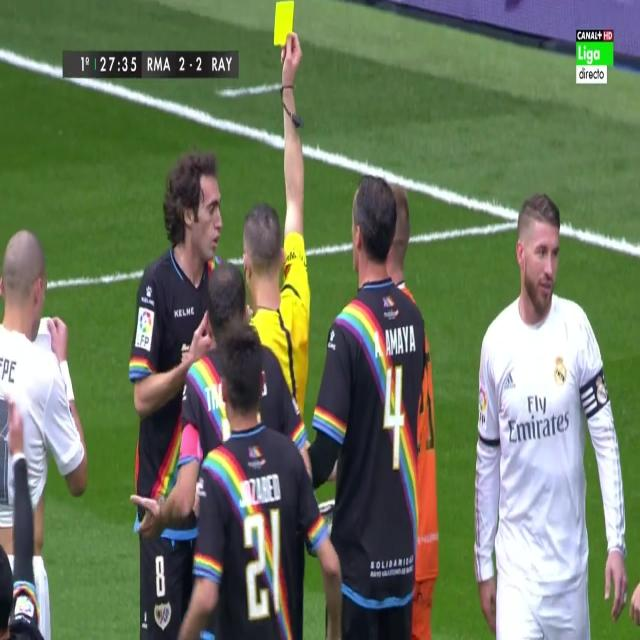Player: (474, 188, 628, 640), (304, 172, 426, 634), (176, 330, 340, 640), (130, 149, 226, 639), (145, 258, 315, 516), (0, 226, 89, 640)
Referee: (248, 32, 311, 404)
